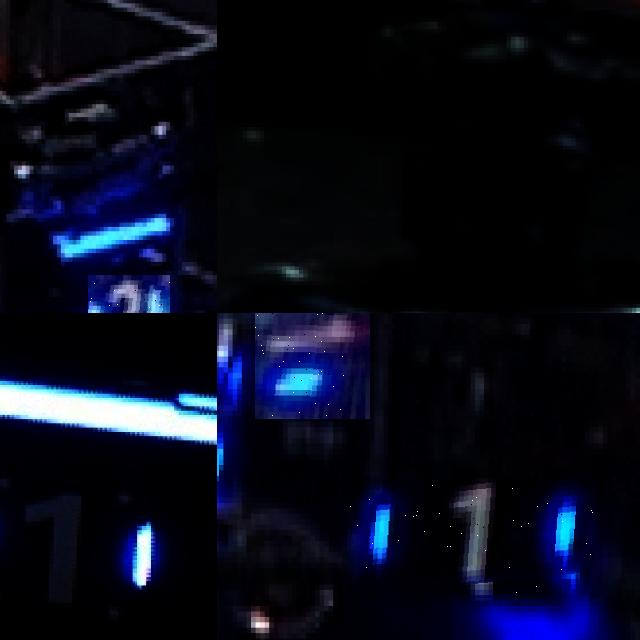B1: (347, 478, 603, 598), (255, 313, 369, 418)
B2: (88, 274, 170, 313)
